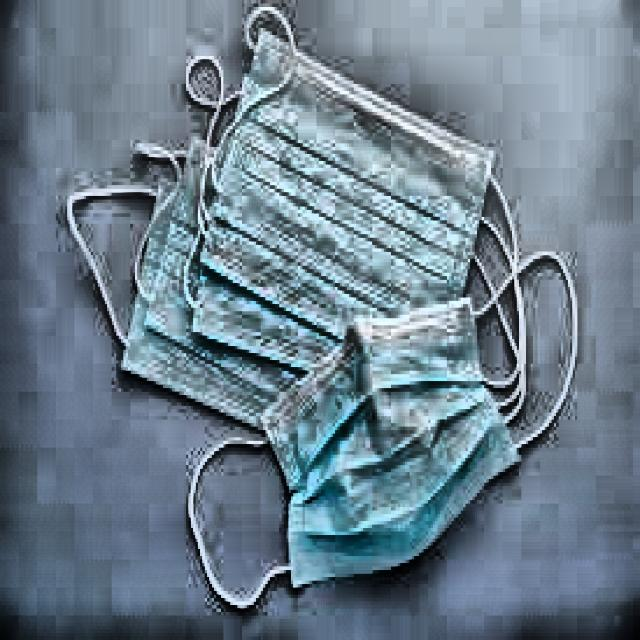trash: (182, 22, 490, 402), (248, 298, 522, 592), (122, 145, 315, 428)
